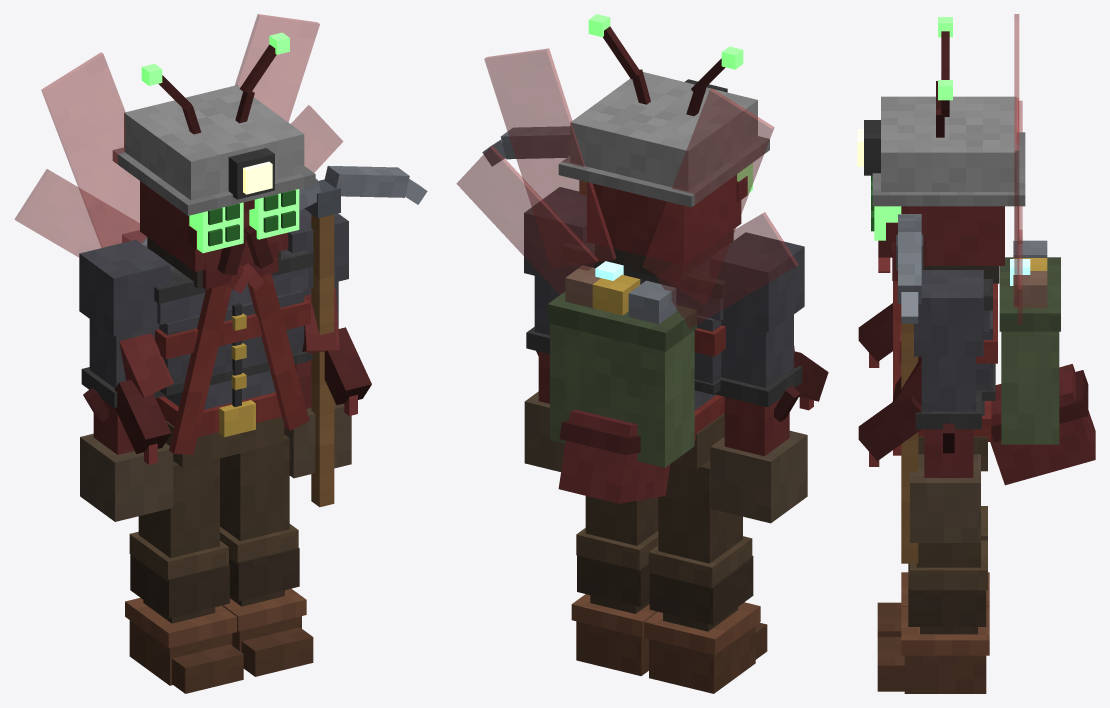
Rendered from insectoid_mineur.glb.
3 views of the same model, side by side, from view 1: azimuth 30°, elevation 25°; view 2: azimuth 150°, elevation 25°; view 3: azimuth 270°, elevation 25° (orthographic). The views are drawn at different scales.
Parts seen in each view (by area): view 1: Torso, Head, LegR, ArmR, LegL, HandL, ArmL; view 2: Torso, Head, ArmR, LegR, LegL, ArmL, HandL; view 3: Torso, Head, ArmL, LegL, HandL, LegR.
Boxes of the visible parts, bbox=[...] form: Torso: bbox=[14, 14, 371, 467]; Head: bbox=[112, 32, 315, 293]; LegR: bbox=[125, 458, 243, 693]; ArmR: bbox=[79, 239, 173, 521]; LegL: bbox=[220, 434, 313, 676]; HandL: bbox=[299, 165, 427, 507]; ArmL: bbox=[284, 208, 351, 478]; Torso: bbox=[456, 48, 828, 503]; Head: bbox=[558, 14, 769, 282]; ArmR: bbox=[710, 232, 807, 523]; LegR: bbox=[644, 460, 767, 693]; LegL: bbox=[571, 496, 658, 675]; ArmL: bbox=[524, 187, 587, 471]; HandL: bbox=[482, 126, 586, 195]; Torso: bbox=[858, 14, 1095, 485]; Head: bbox=[857, 17, 1025, 283]; ArmL: bbox=[910, 270, 983, 542]; LegL: bbox=[877, 540, 989, 693]; HandL: bbox=[896, 214, 923, 563]; LegR: bbox=[877, 506, 989, 636].
Bounding box in the file's own units: 1.22 × 1.98 × 0.7027.
41 materials, 41 textured.
